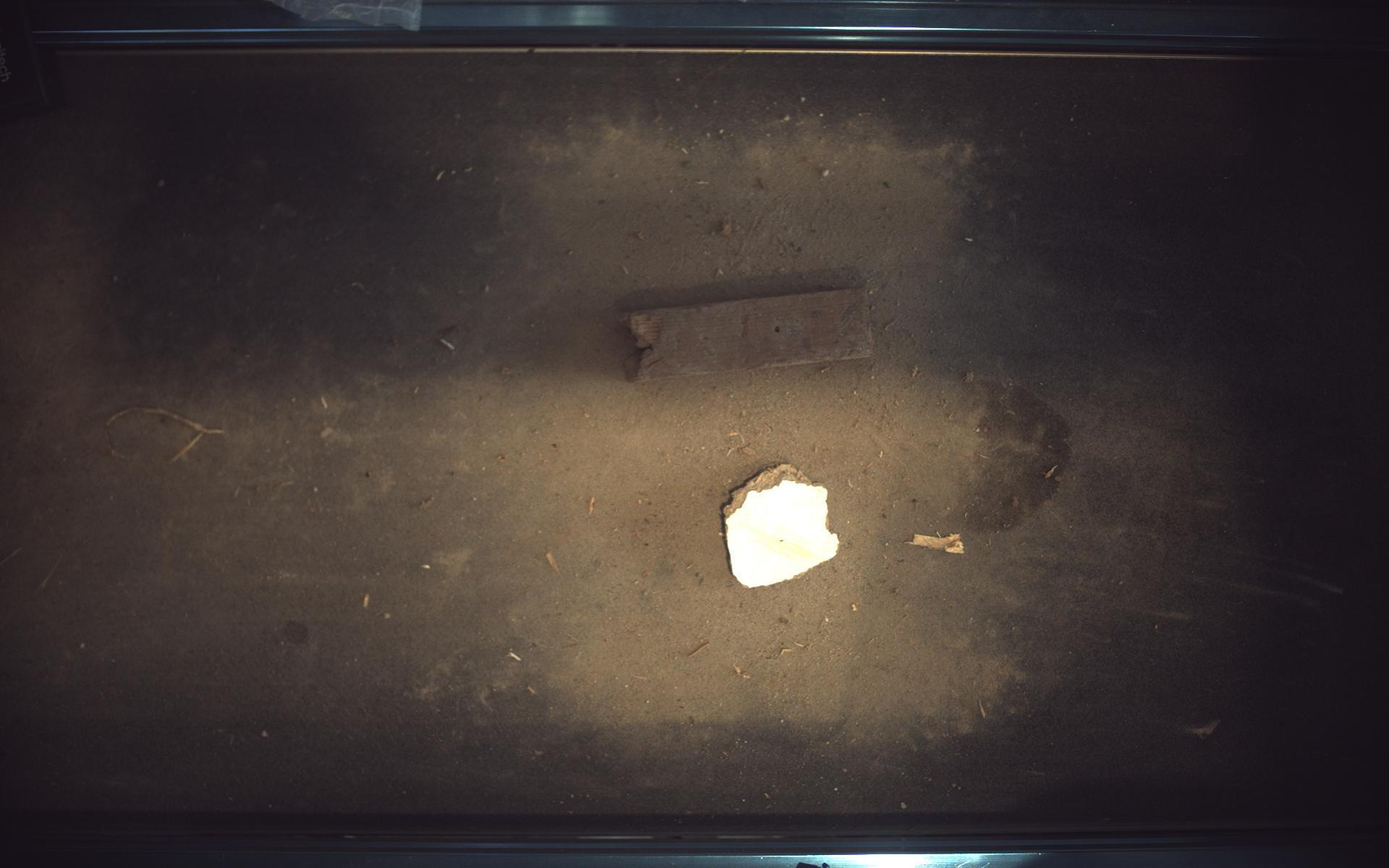wood: (624, 288, 875, 380), (724, 464, 839, 588)
